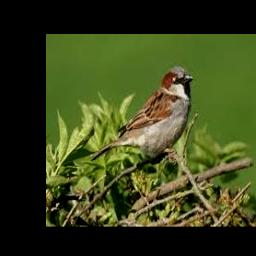Sparrow: (89, 66, 193, 163)
